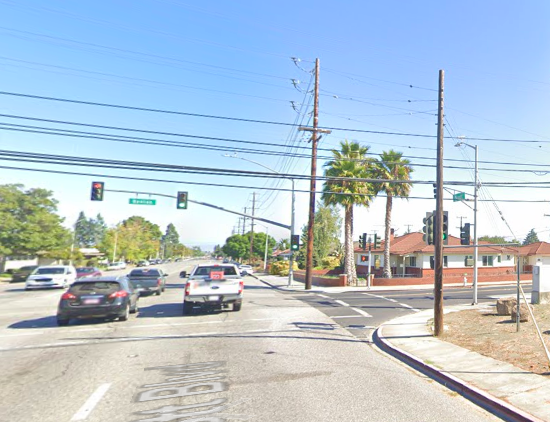tree: (320, 138, 374, 286), (370, 148, 412, 277)
utility_pole: (284, 45, 335, 144), (407, 61, 456, 149)
